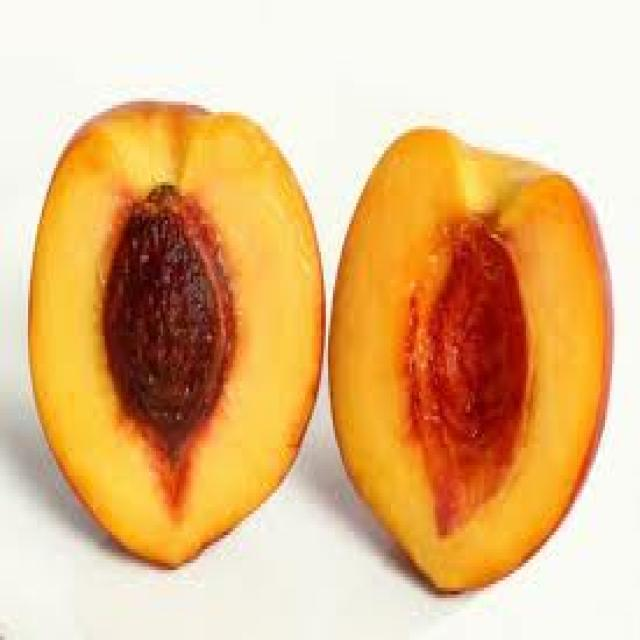pach: (14, 94, 610, 608)
